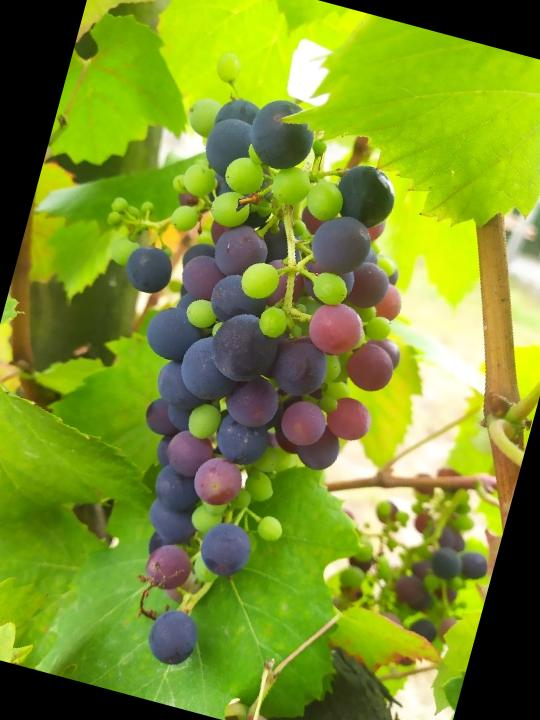grape: (0, 35, 465, 705)
